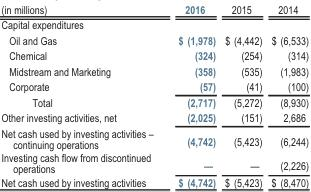table: (0, 0, 308, 189)
table column: (0, 0, 165, 189), (165, 0, 219, 189), (219, 0, 266, 189), (266, 0, 308, 189)
table column header: (0, 0, 308, 16)
table projected row header: (0, 16, 308, 31)
table row: (0, 124, 308, 150), (0, 150, 308, 174), (0, 0, 308, 16), (0, 31, 308, 47), (0, 62, 308, 78), (0, 93, 308, 109), (0, 16, 308, 31), (0, 47, 308, 62), (0, 78, 308, 93), (0, 109, 308, 124), (0, 174, 308, 189)
